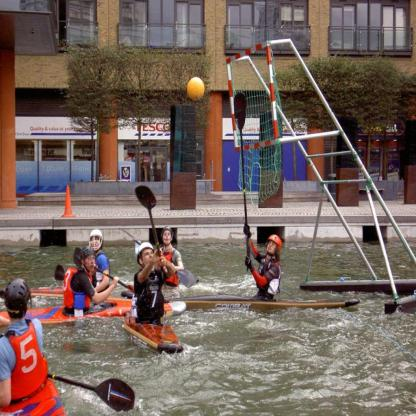face: (143, 251, 155, 268), (85, 257, 96, 270), (91, 237, 101, 251), (268, 241, 277, 255), (164, 230, 172, 244)
